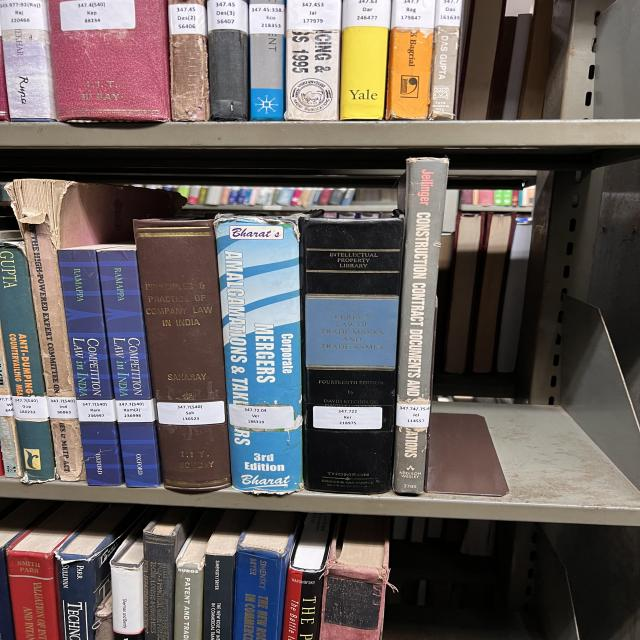Book: (5, 179, 183, 481), (300, 218, 405, 494), (133, 219, 232, 491), (215, 215, 303, 495), (393, 158, 448, 495), (97, 245, 162, 488), (58, 245, 123, 485), (48, 0, 170, 121), (0, 241, 55, 482), (7, 502, 100, 640), (55, 504, 143, 640), (320, 516, 388, 640), (233, 511, 298, 640), (143, 508, 198, 640), (285, 0, 342, 120), (173, 510, 223, 640), (203, 510, 252, 640), (340, 0, 392, 120), (283, 514, 332, 640), (387, 0, 435, 120), (168, 0, 210, 121), (207, 0, 248, 121), (248, 0, 285, 121), (430, 0, 463, 120), (110, 530, 145, 640), (0, 331, 23, 478), (92, 592, 113, 640)
Label: (60, 0, 135, 31), (313, 406, 383, 430), (228, 404, 295, 429), (287, 0, 342, 30), (157, 401, 225, 425), (342, 0, 392, 29), (207, 0, 248, 32), (392, 0, 435, 29), (168, 4, 207, 35), (248, 4, 285, 35), (115, 399, 155, 422), (77, 399, 117, 421), (397, 402, 430, 428), (12, 396, 48, 419), (47, 396, 78, 419), (435, 0, 462, 26), (0, 395, 13, 416)
